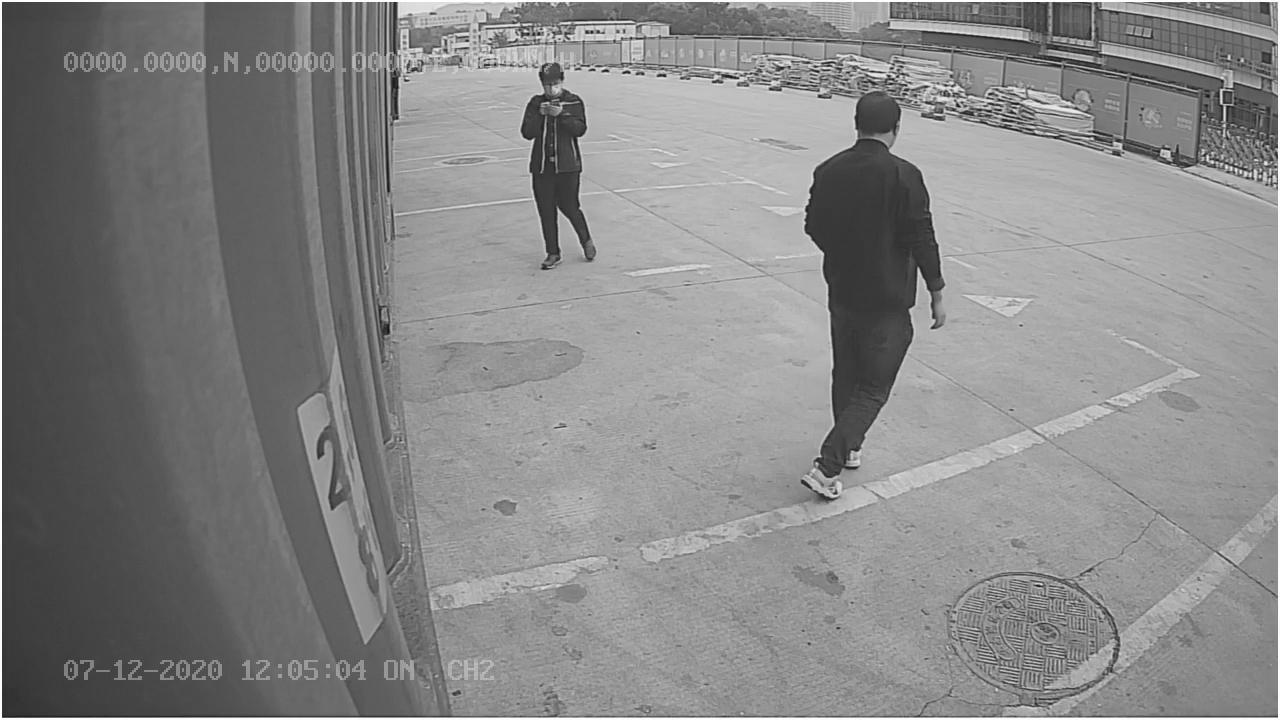person: (792, 85, 947, 498)
